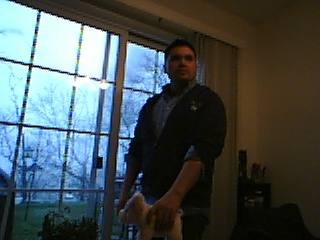piggy: (118, 190, 186, 240)
